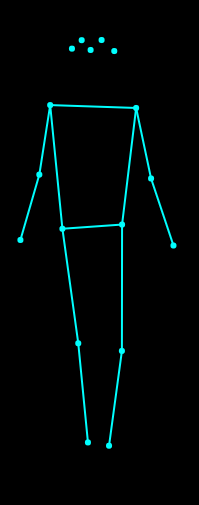mountain: (15, 33, 178, 454)
